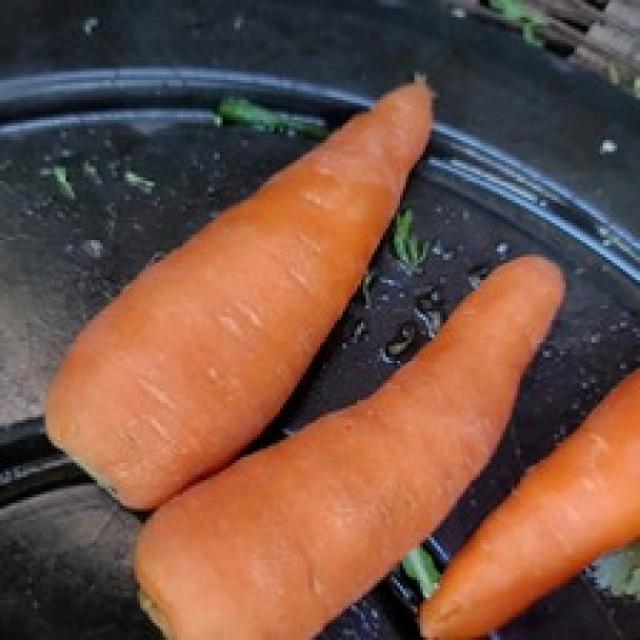Fresh_Carrot: (121, 230, 613, 632), (20, 58, 459, 489), (426, 354, 628, 640)
